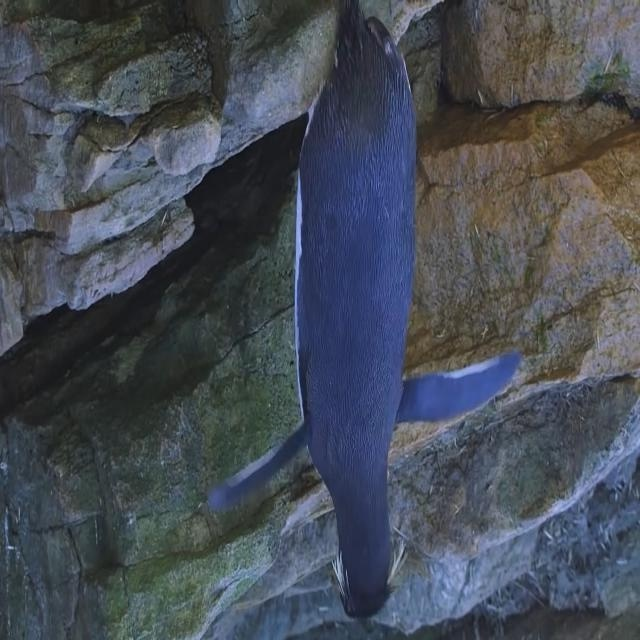penguin: (202, 3, 526, 619)
